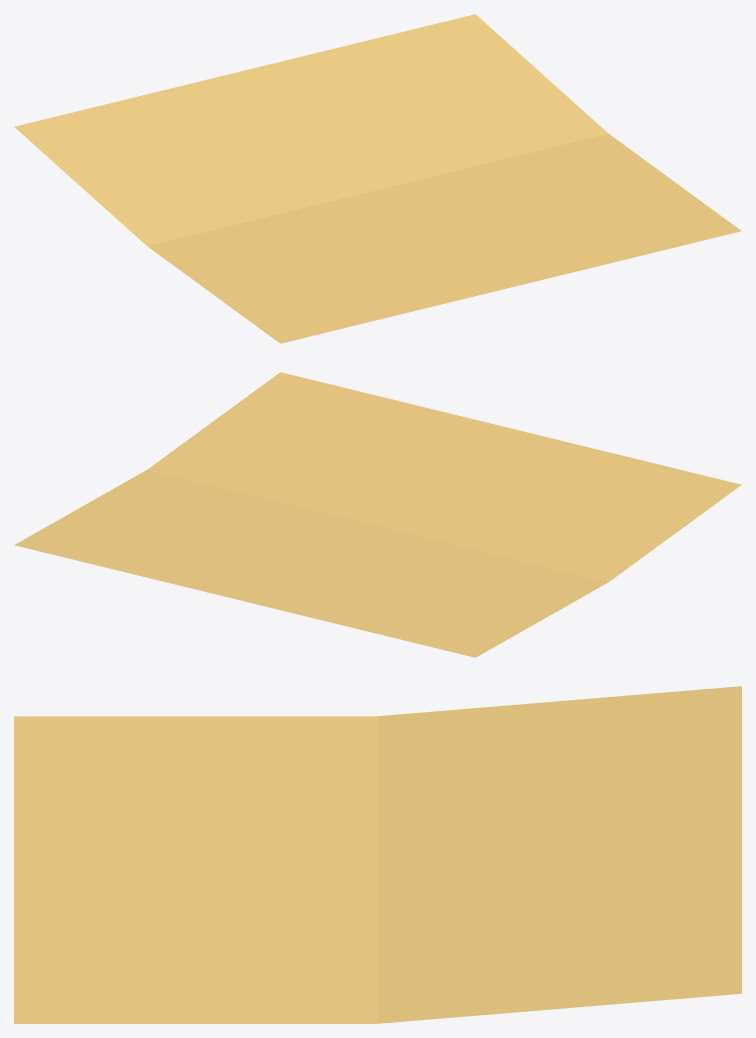
File: Note.fbx
3 renders of one model, top to bottom at view 1: azimuth 30°, elevation 25°; view 2: azimuth 150°, elevation 25°; view 3: azimuth 270°, elevation 25°, orthographic. The views are drawn at different scales.
Parts seen in each view (by area): view 1: Note; view 2: Note; view 3: Note.
Boxes of the visible parts, box(x1,y1,x2,y2) form: Note: box(14, 14, 741, 343); Note: box(14, 372, 741, 657); Note: box(14, 686, 741, 1023).
Size of the model in its own units: 31.6 by 1.44 by 31.6.
